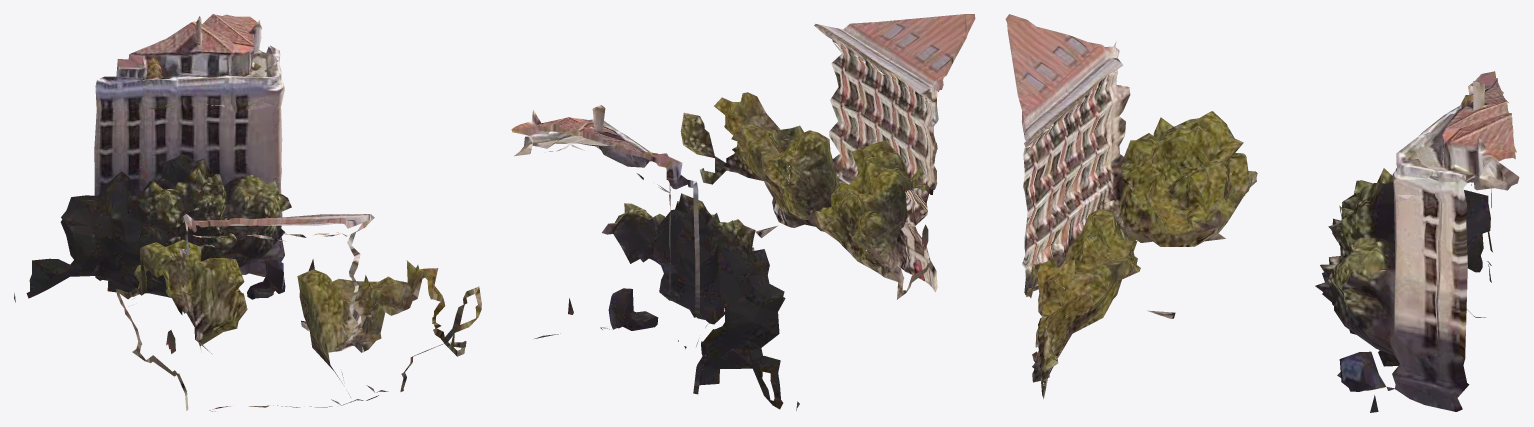
3 views of the same model, side by side, from view 1: azimuth 30°, elevation 25°; view 2: azimuth 150°, elevation 25°; view 3: azimuth 270°, elevation 25° (orthographic). The views are drawn at different scales.
Visible parts, largest first — view 1: Mesh_0; view 2: Mesh_0; view 3: Mesh_0.
Part boxes in pixels (<box>): Mesh_0: <box>14,14,481,411</box>; Mesh_0: <box>511,14,975,410</box>; Mesh_0: <box>1005,14,1519,412</box>.
Size of the model in its own units: 32.29 by 26.03 by 41.47.
Materials: 2 (2 with a texture image).
